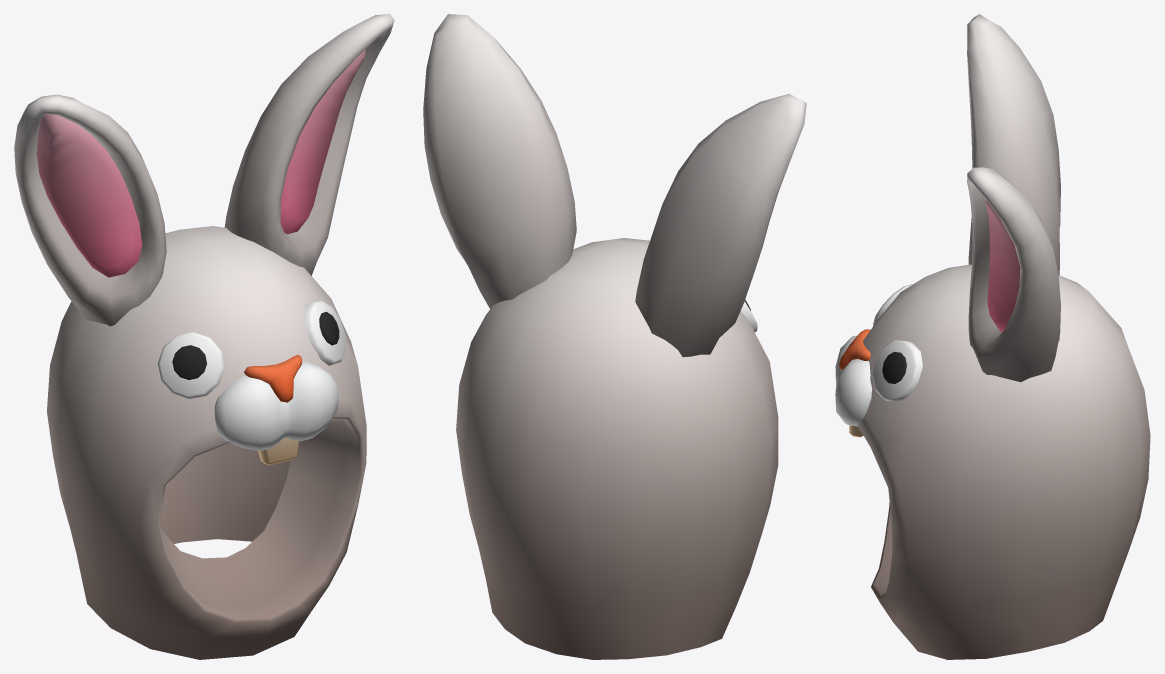
File: hat_049.glb
3 views of the same model, side by side, from view 1: azimuth 30°, elevation 25°; view 2: azimuth 150°, elevation 25°; view 3: azimuth 270°, elevation 25° (orthographic). The views are drawn at different scales.
Visible parts, largest first — view 1: Hat_049; view 2: Hat_049; view 3: Hat_049.
Part boxes in pixels (box(x1,y1,x2,y2)): Hat_049: box(14, 14, 394, 659); Hat_049: box(423, 14, 806, 659); Hat_049: box(835, 14, 1150, 659).
Size of the model in its own units: 0.4231 by 0.6322 by 0.3356.
1 material, 1 textured.
